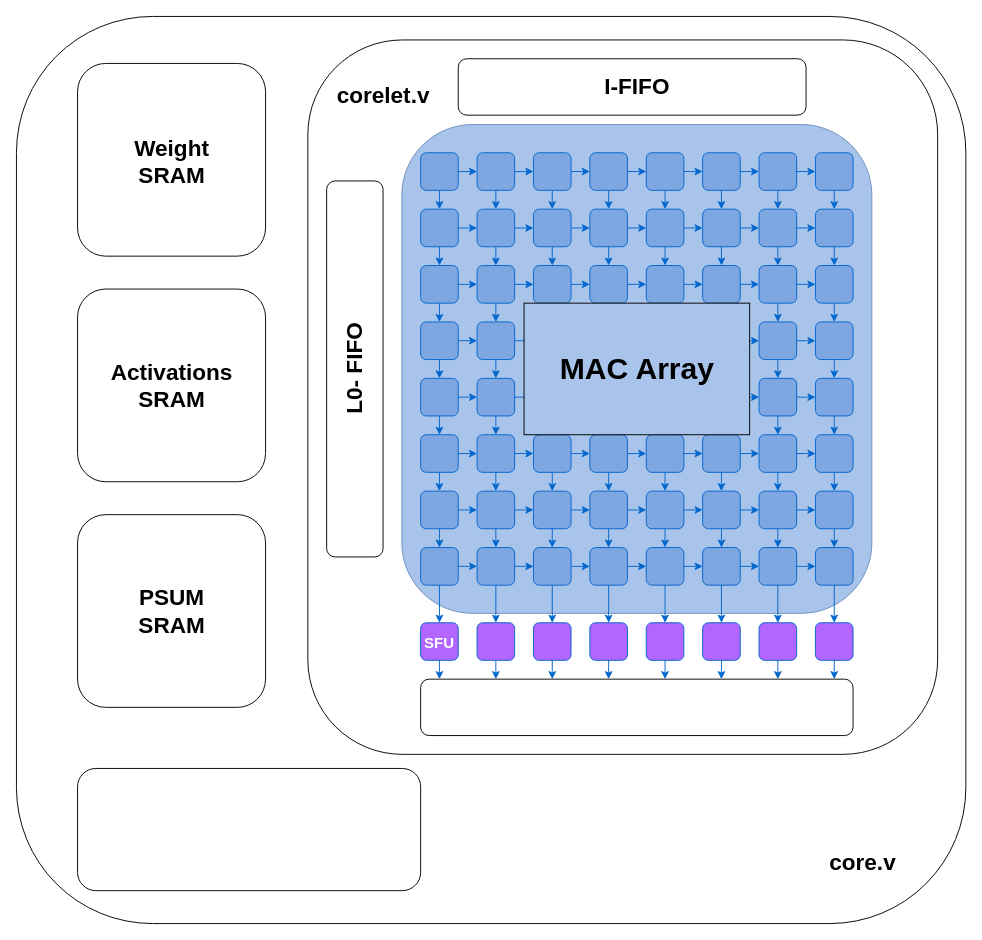
The diagram is 982 pixels wide and 940 high, and some of its shapes have lost their labels. Each missing label, with the centre of its shape:
"Controller" belongs at point 249,829.
"O-FIFO" belongs at point 636,707.
"PE" belongs at point 439,171.
